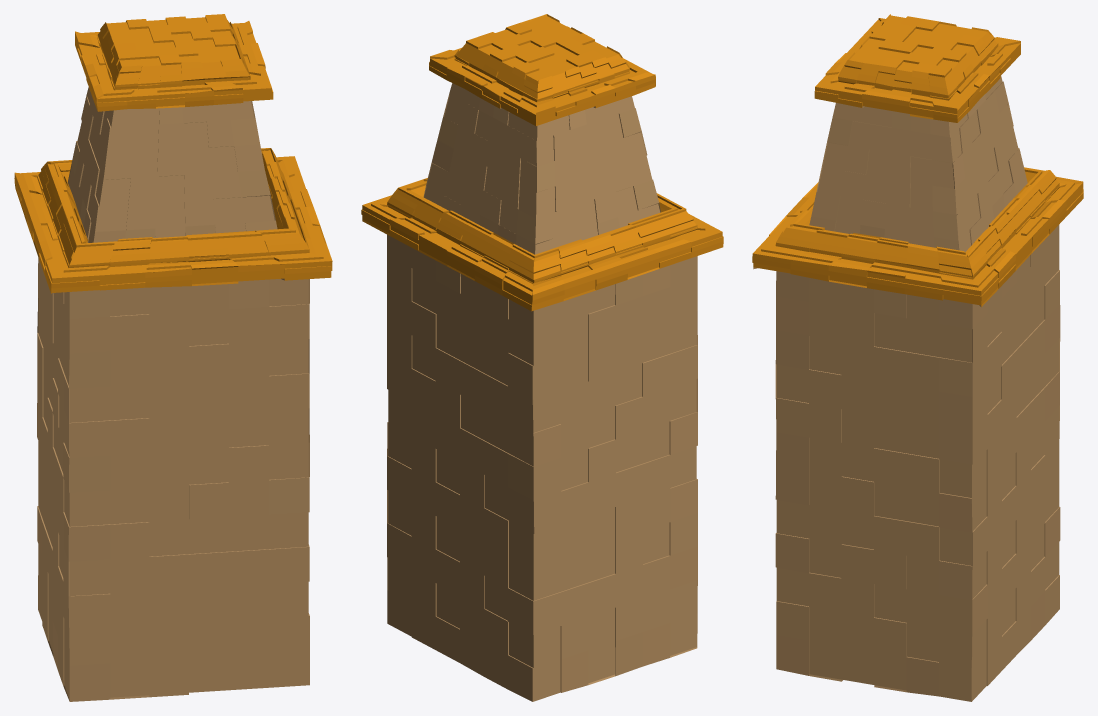
File: Apartment_Building_11.fbx
3 views of the same model, side by side, from view 1: azimuth 30°, elevation 25°; view 2: azimuth 150°, elevation 25°; view 3: azimuth 270°, elevation 25° (orthographic). The views are drawn at different scales.
Parts seen in each view (by area): view 1: Cube.431; view 2: Cube.431; view 3: Cube.431.
Part boxes in pixels (x1=…): Cube.431: x1=14, y1=14, x2=332, y2=701; Cube.431: x1=361, y1=14, x2=723, y2=701; Cube.431: x1=752, y1=14, x2=1083, y2=701.
Bounding box in the file's own units: 1632 × 3078 × 1551.
